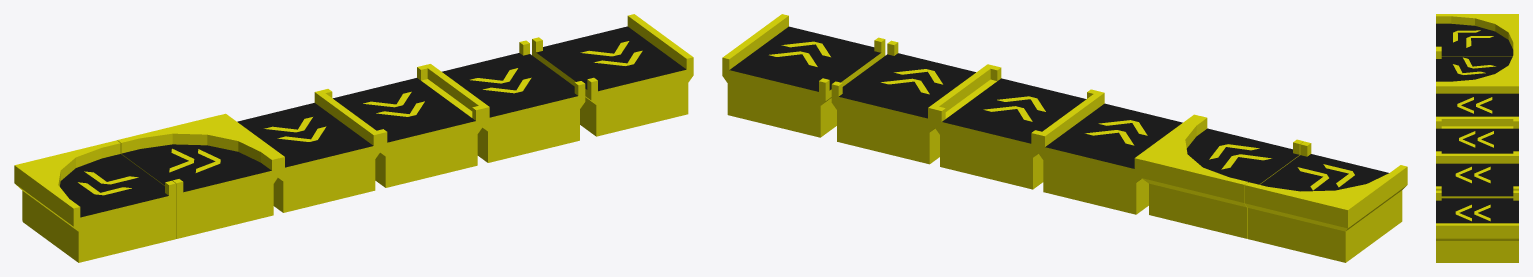
The model's file is Conveyors.fbx.
The picture shows the model from 3 angles, left to right: view 1: azimuth 30°, elevation 25°; view 2: azimuth 150°, elevation 25°; view 3: azimuth 270°, elevation 25°; orthographic projection. The views are drawn at different scales.
Visible parts, largest first — view 1: Curved, AntiCurved, AntiTSection, TSection, Straight, Intersection; view 2: Curved, AntiTSection, AntiCurved, Straight, TSection, Intersection; view 3: AntiTSection, TSection, Curved, Straight, AntiCurved, Intersection.
Part boxes in pixels (x1,y1,x2,y2): Curved: (14,140,175,262); AntiCurved: (117,115,278,238); AntiTSection: (532,14,693,136); TSection: (424,40,585,162); Straight: (220,90,380,212); Intersection: (322,65,482,187); Curved: (1244,141,1407,262); AntiTSection: (722,14,885,137); AntiCurved: (1141,116,1303,238); Straight: (1038,91,1199,214); TSection: (831,40,994,164); Intersection: (935,66,1097,189); AntiTSection: (1436,190,1518,262); TSection: (1436,153,1518,198); Curved: (1436,14,1518,56); Straight: (1436,84,1518,126); AntiCurved: (1436,49,1518,83); Intersection: (1436,119,1518,153).
Size of the model in its own units: 606 by 52.14 by 100.
